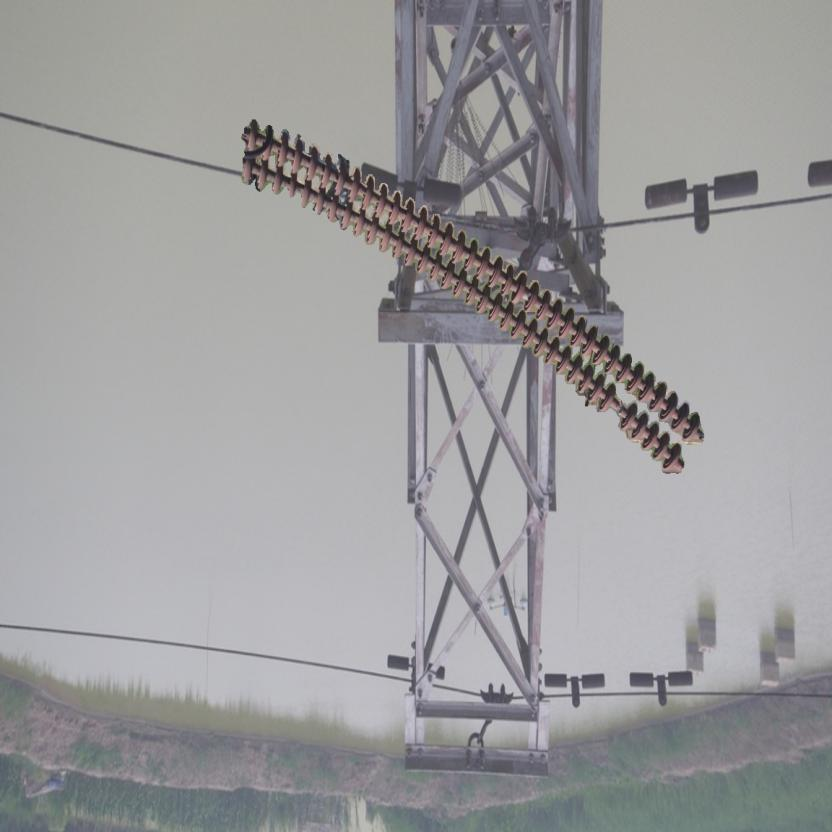defect: (596, 383, 638, 438)
